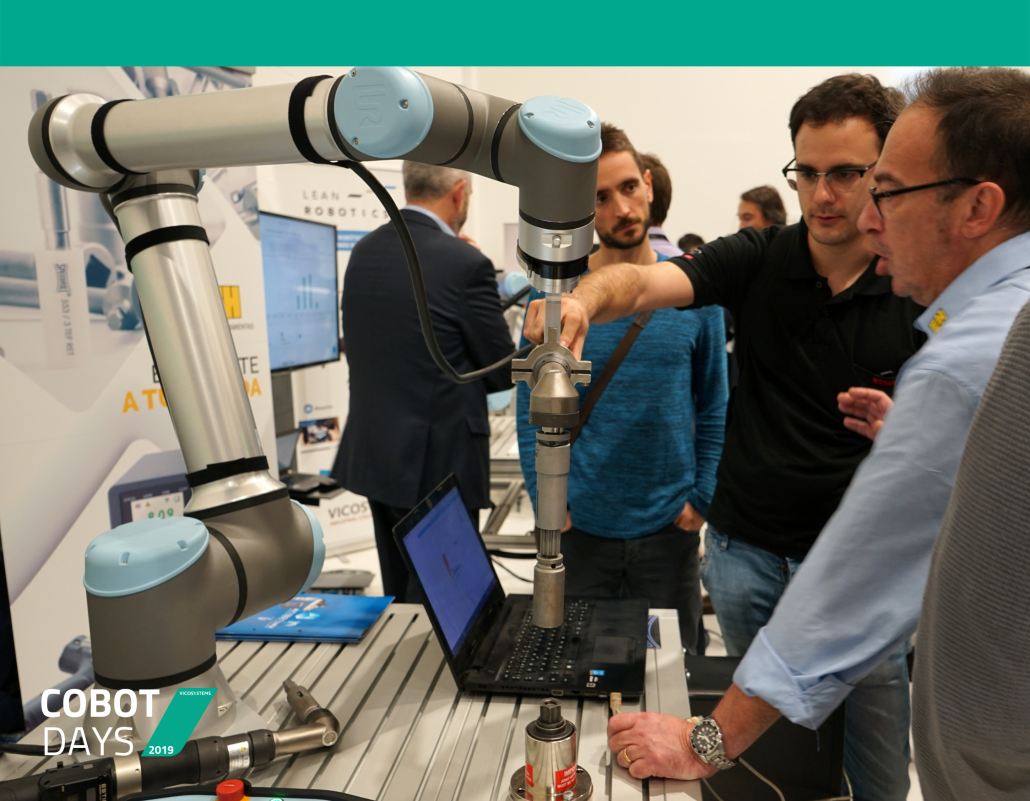person: (609, 68, 1030, 783), (521, 71, 913, 801), (516, 121, 732, 662), (325, 159, 514, 616)
robot: (28, 64, 602, 698)
